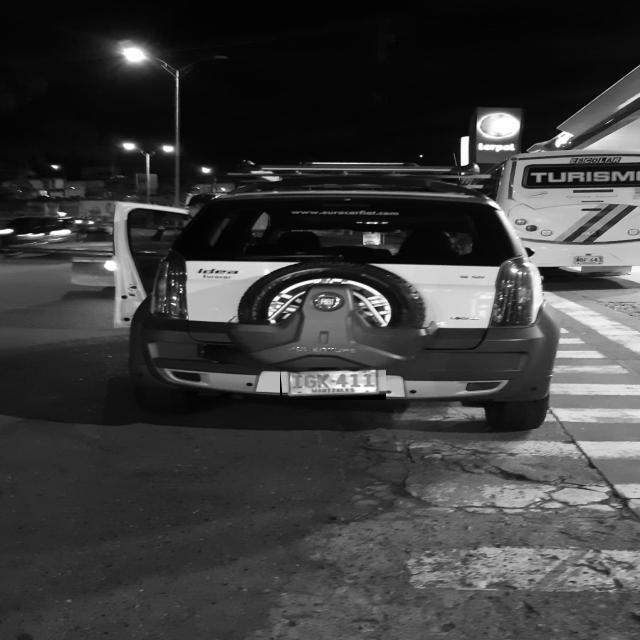plate: (280, 367, 386, 400)
